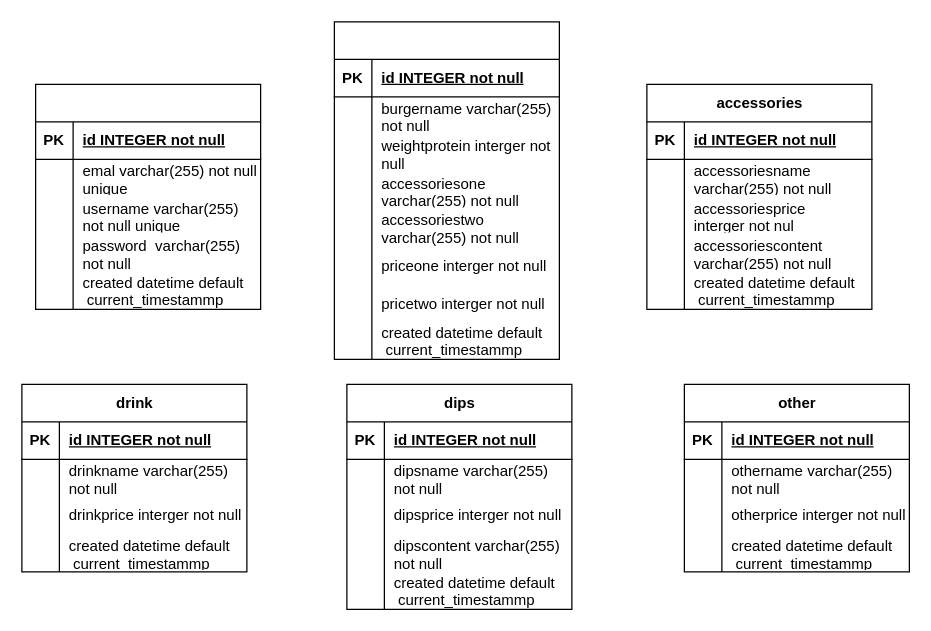
Image size: 931x631. Some labels were removed from this diagram. Each missing label, with the box of its shape:
burgers: (333, 21, 559, 359)
users: (34, 83, 261, 309)
